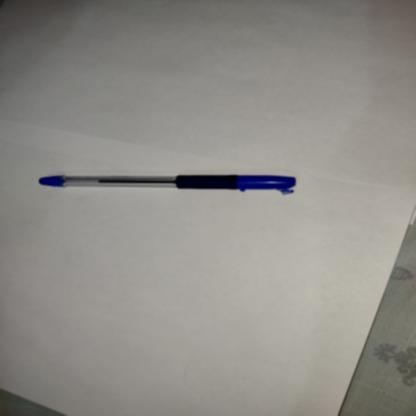Pen: (36, 167, 310, 217)
